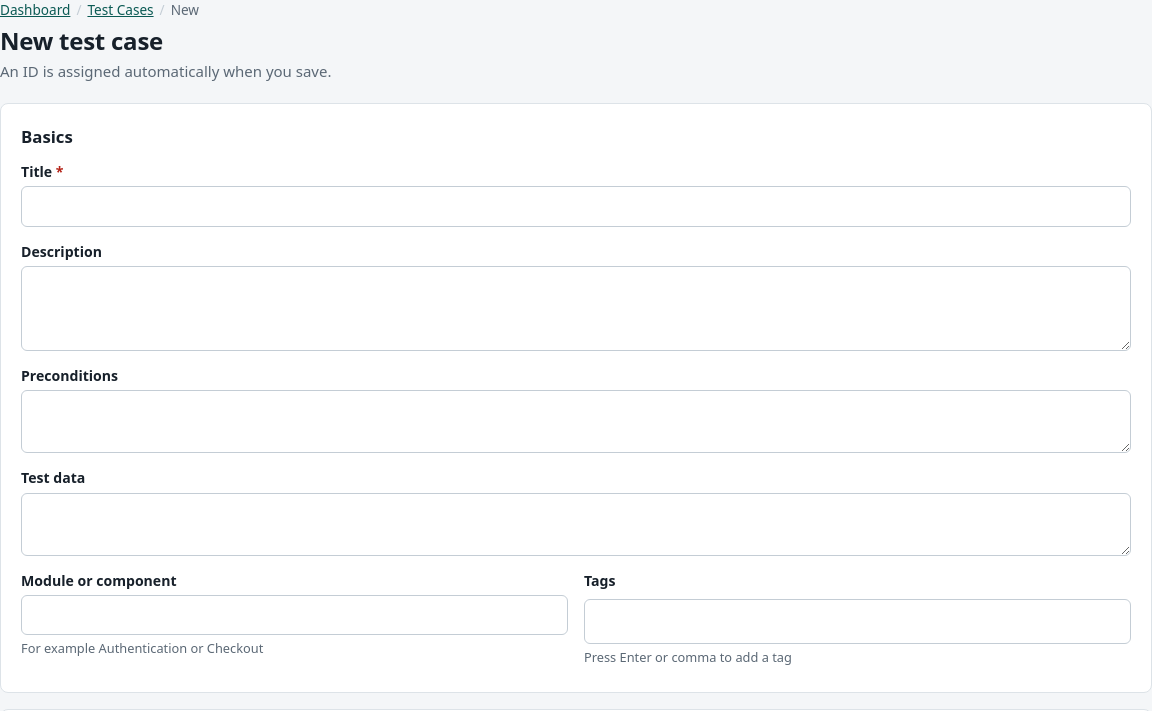
create › clears the duplicate warning when the title changes
In the field labelled "Title *": (576, 206) [21, 186, 1131, 227], type "X"
(page scrolled)
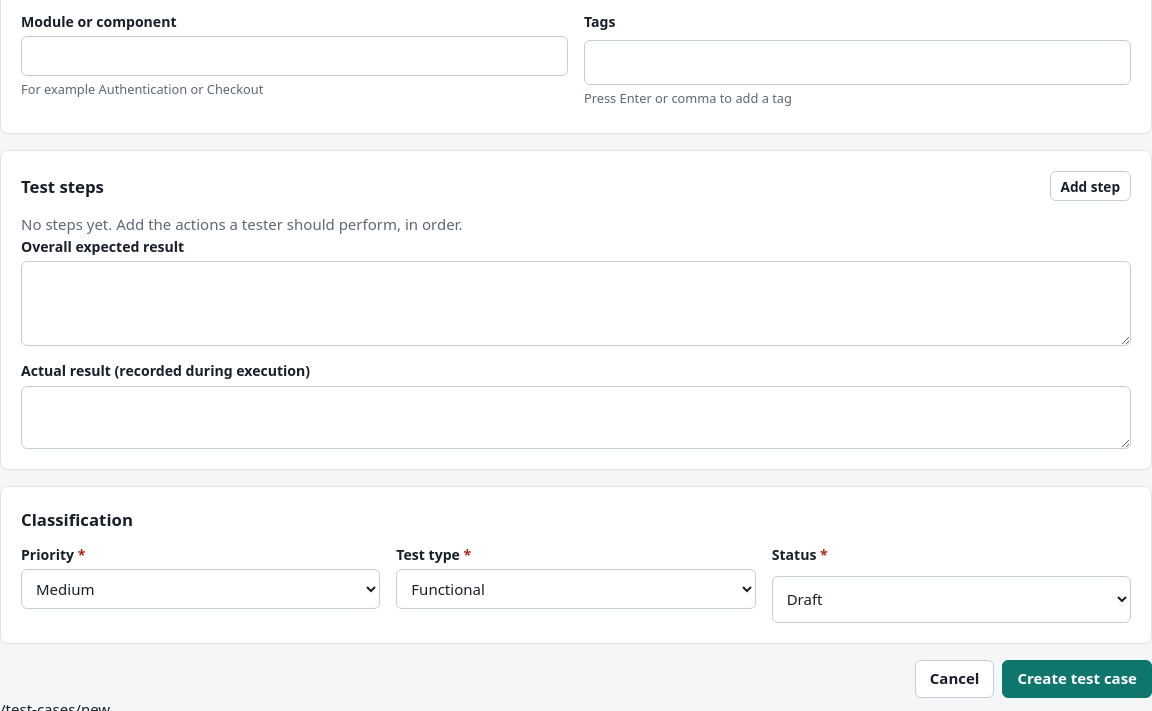
Click the button "Create test case": (1077, 679) [1002, 660, 1151, 698]
(page scrolled)
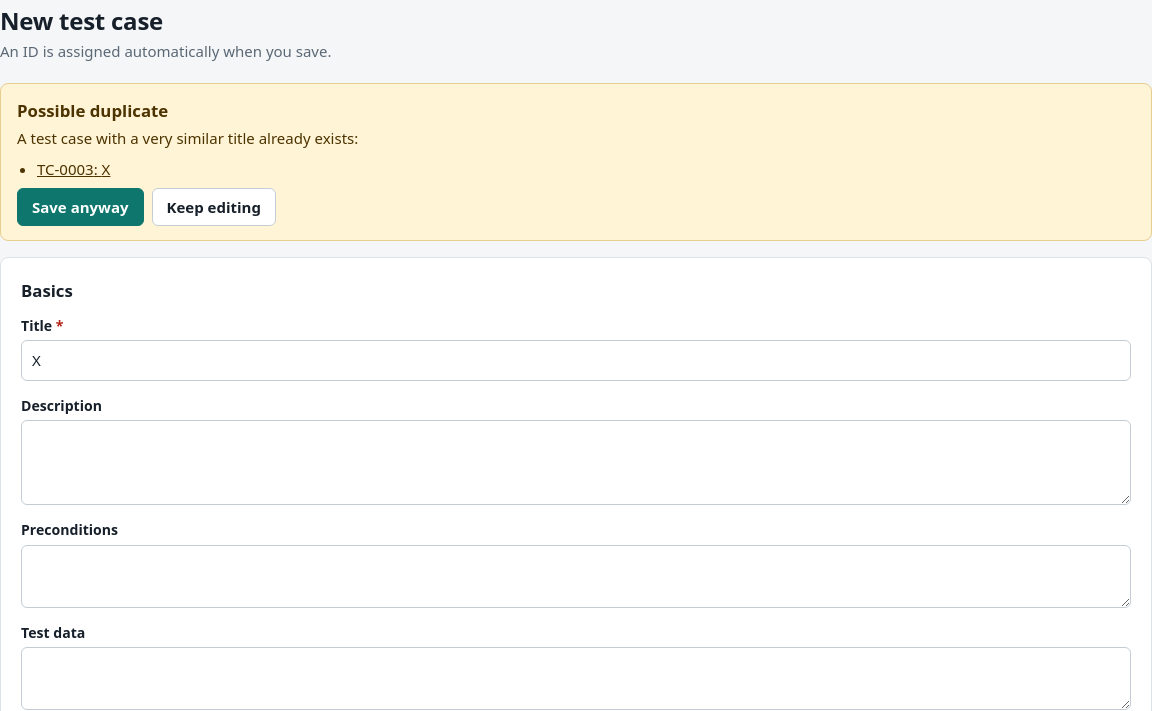
Check: the heading "Possible duplicate" is shown, box [17, 99, 168, 122]
In the field labelled "Title *": (576, 361) [21, 340, 1131, 381], type "Y"
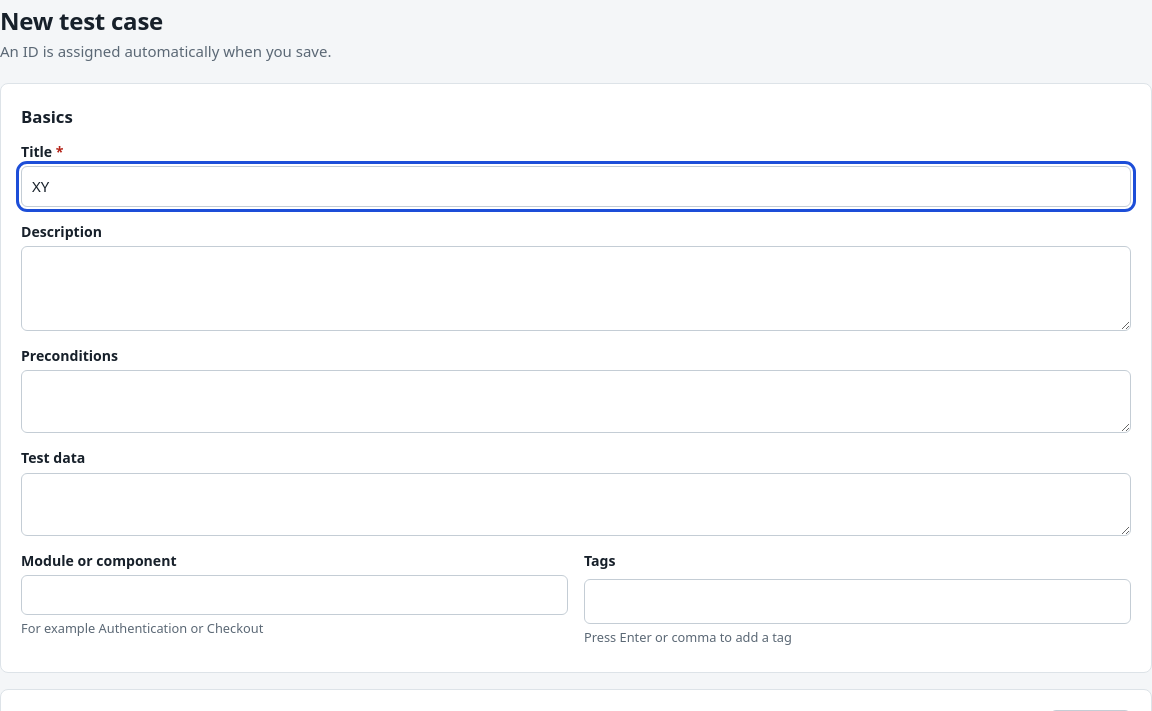
Check: the heading "Possible duplicate" is gone
